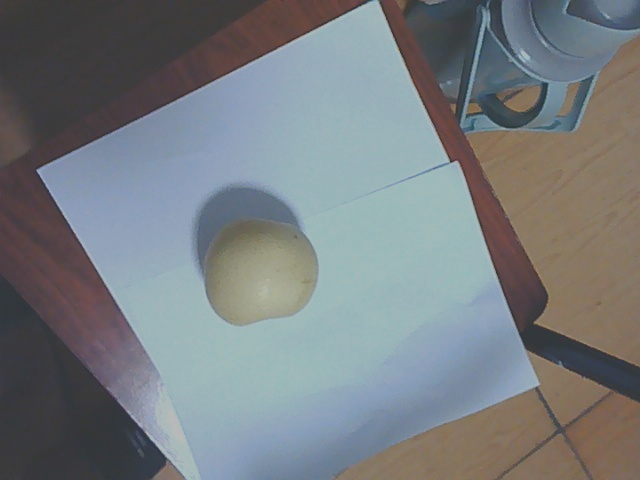pear: (198, 219, 322, 326)
